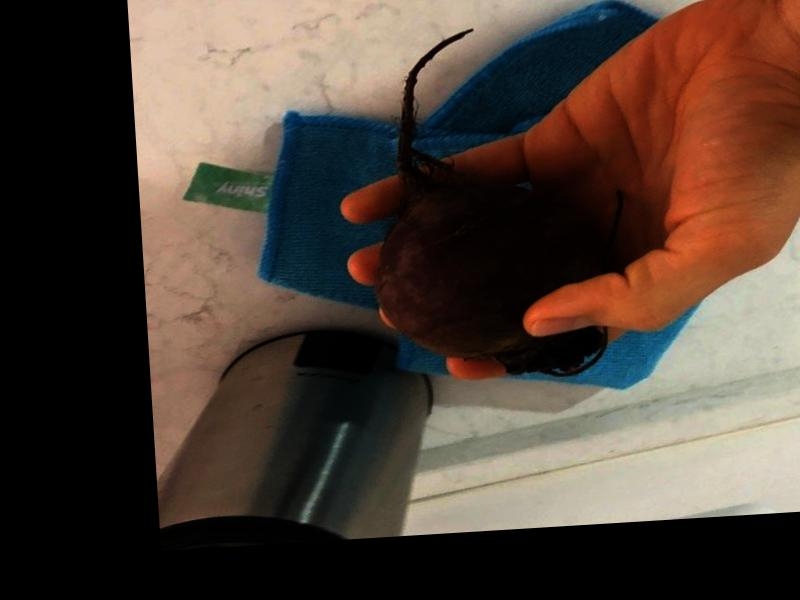Beet: (360, 20, 631, 386)
